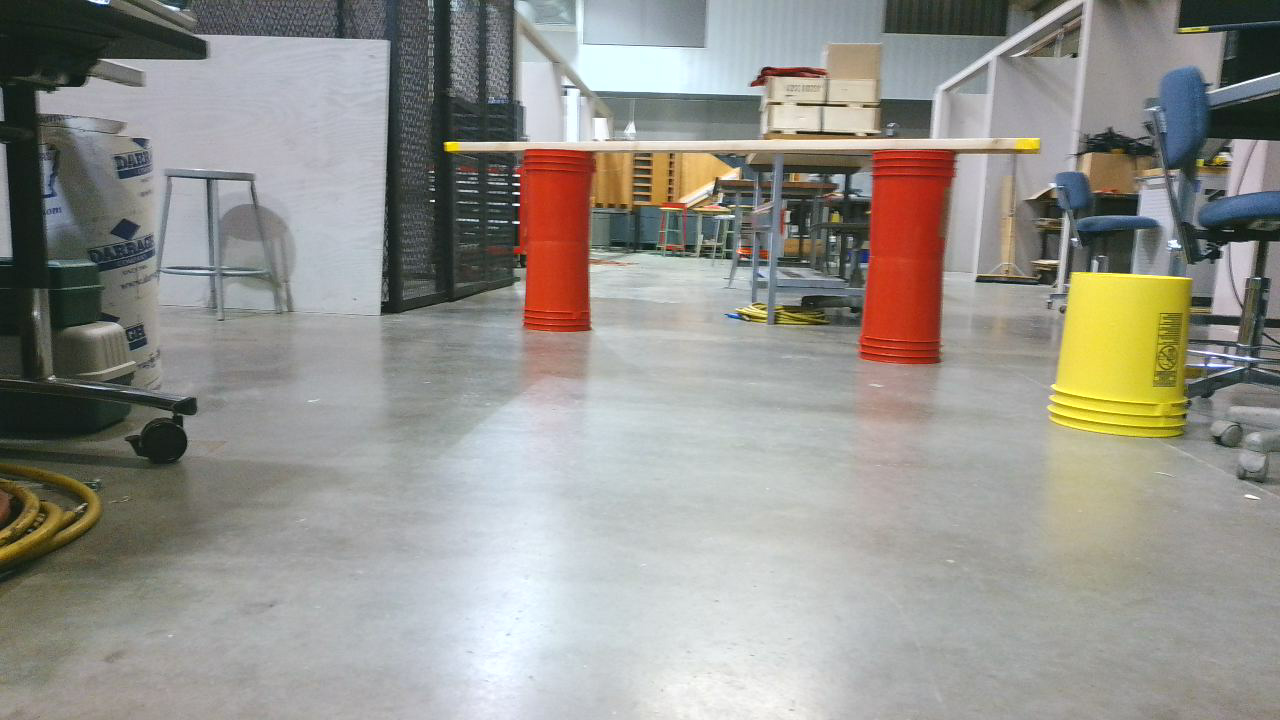red_bucket_arch: (444, 140, 1018, 376)
yellow_bucket: (1048, 279, 1215, 439)
